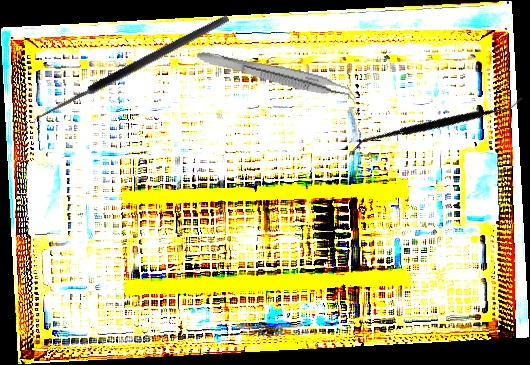Hook Surgical: (30, 12, 235, 135)
Spatula Surgical: (350, 38, 524, 213)
Tissue Forceps: (194, 49, 360, 104)
